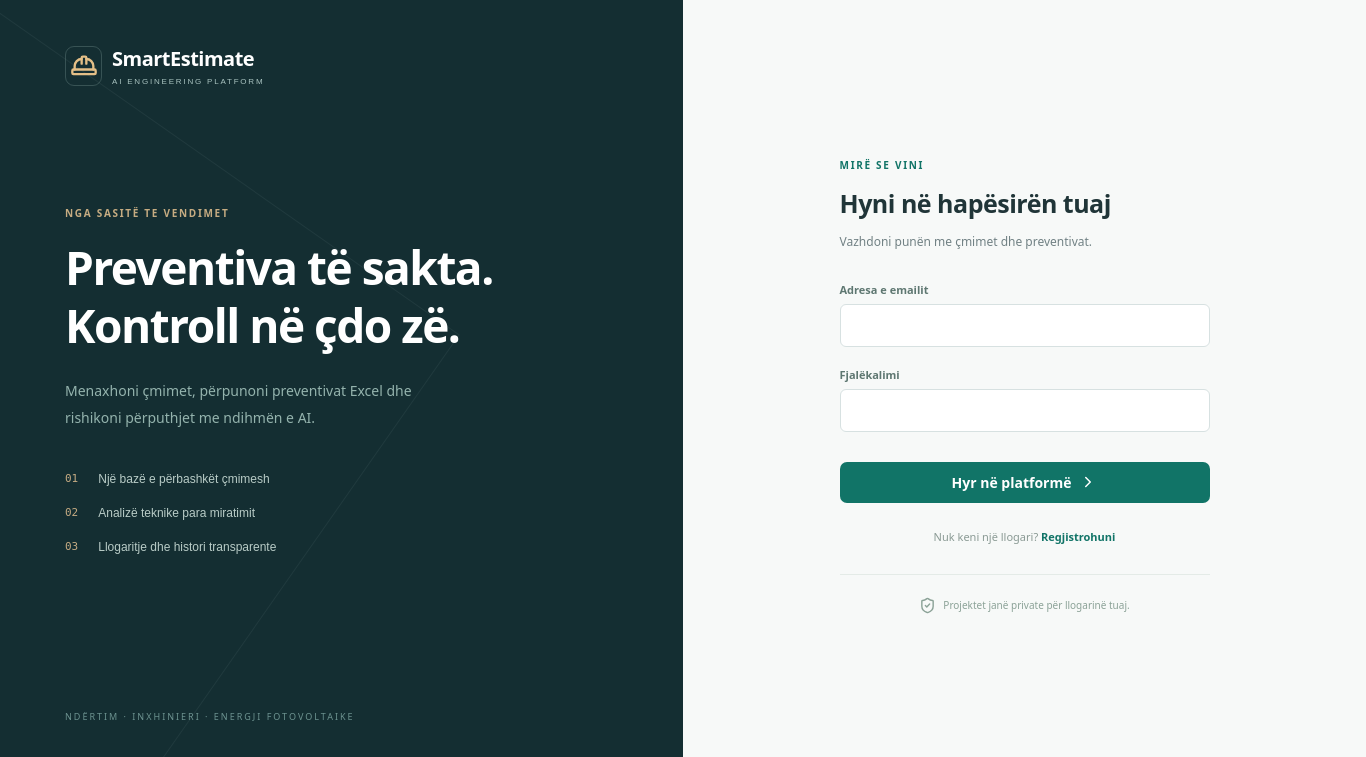
Test: Albanian workspace › requires authentication and sends registration through backend
The width and height of the screenshot is (1366, 757).
Expected: the heading "Hyni në hapësirën tuaj" is shown, [840, 186, 1111, 220]
Click the button "Regjistrohuni".
click(1078, 537)  # box [1041, 528, 1115, 546]
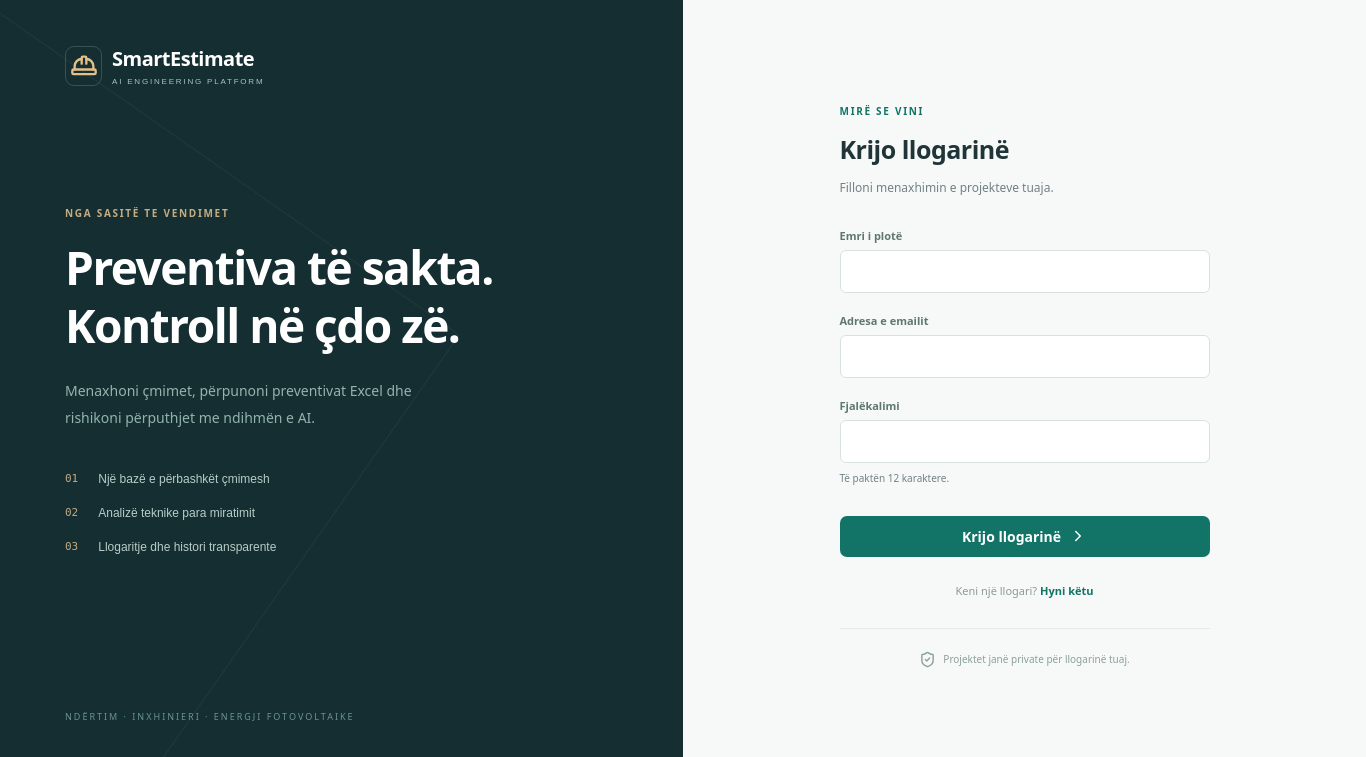
Type "Ana" into the field labelled "Emri i plotë".
click(1024, 271); type("Ana")  # box [840, 250, 1210, 293]
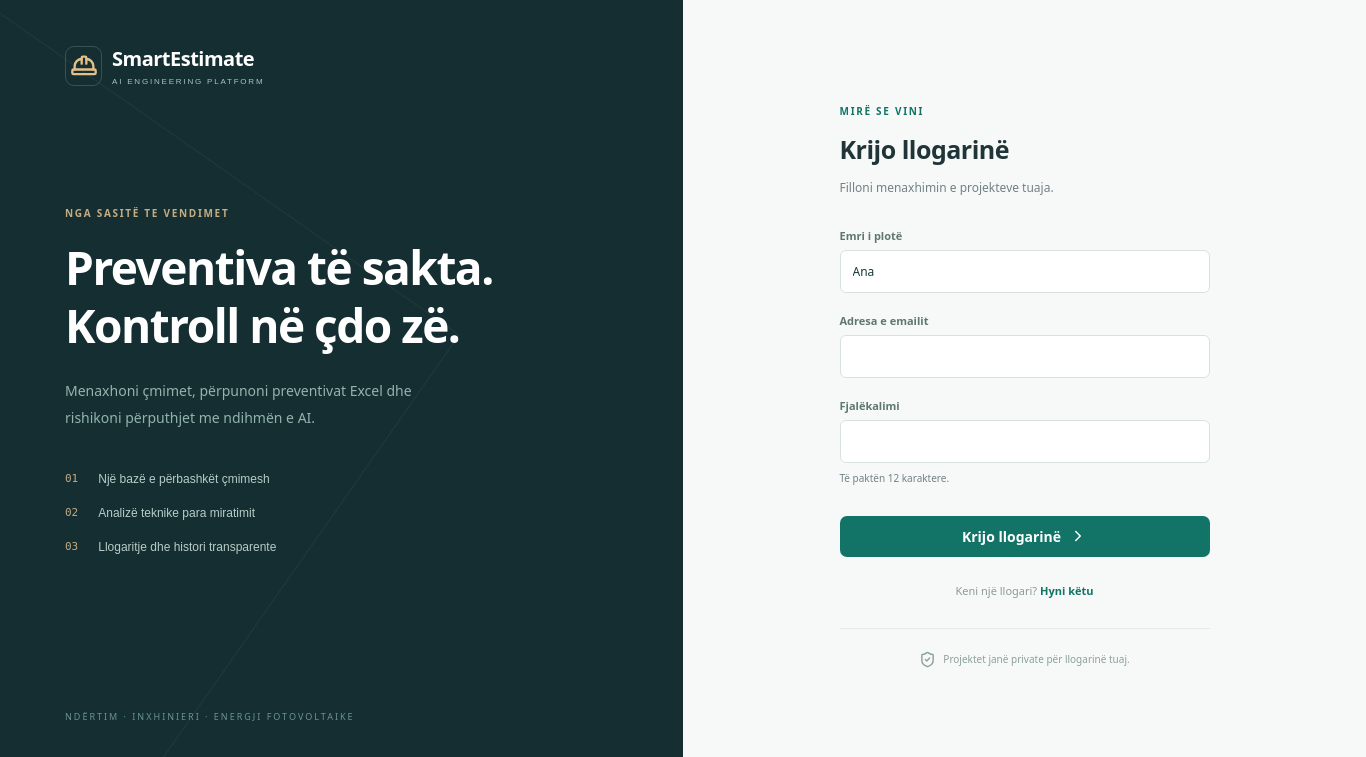
Type "ana@example.com" into the field labelled "Adresa e emailit".
click(1024, 356); type("ana@example.com")  # box [840, 335, 1210, 378]
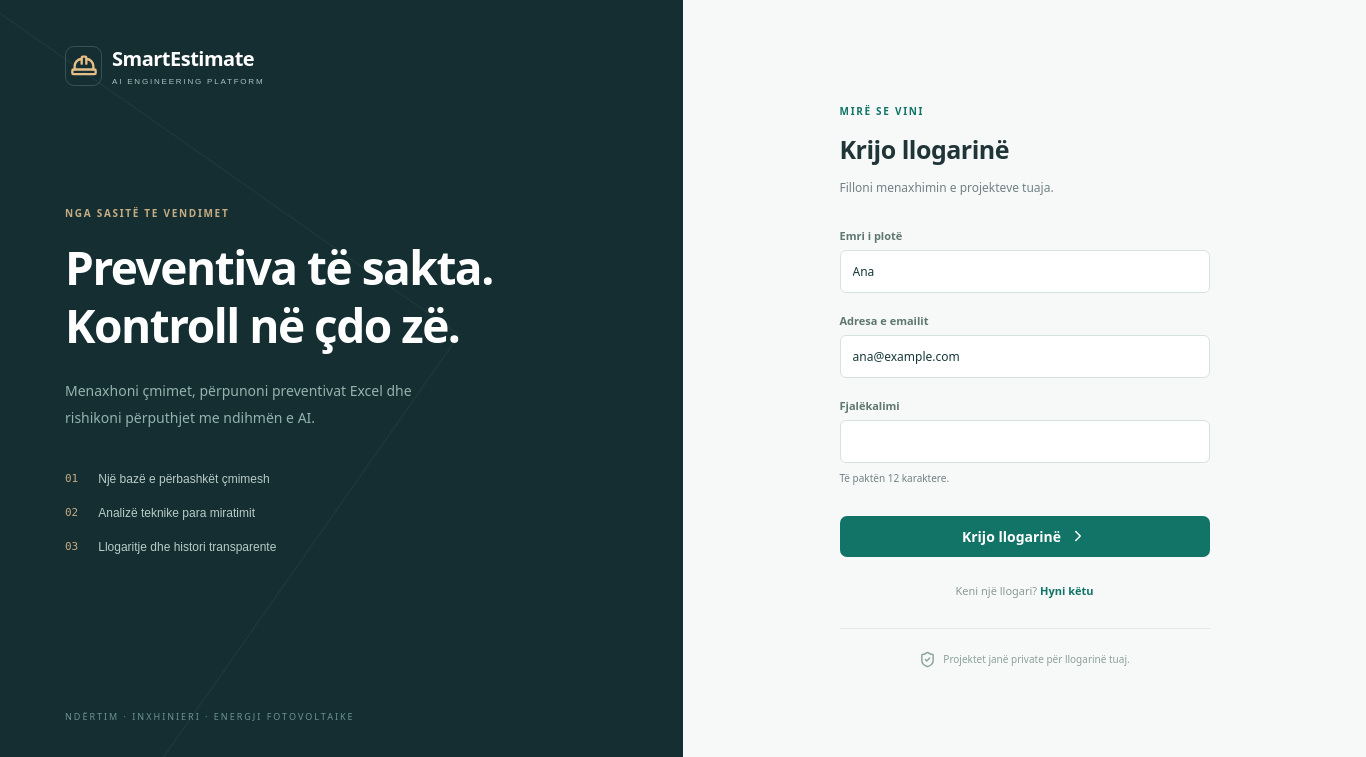
Type "test-password-123" into the password field labelled "Fjalëkalimi".
click(1024, 441); type("test-password-123")  # box [840, 420, 1210, 463]
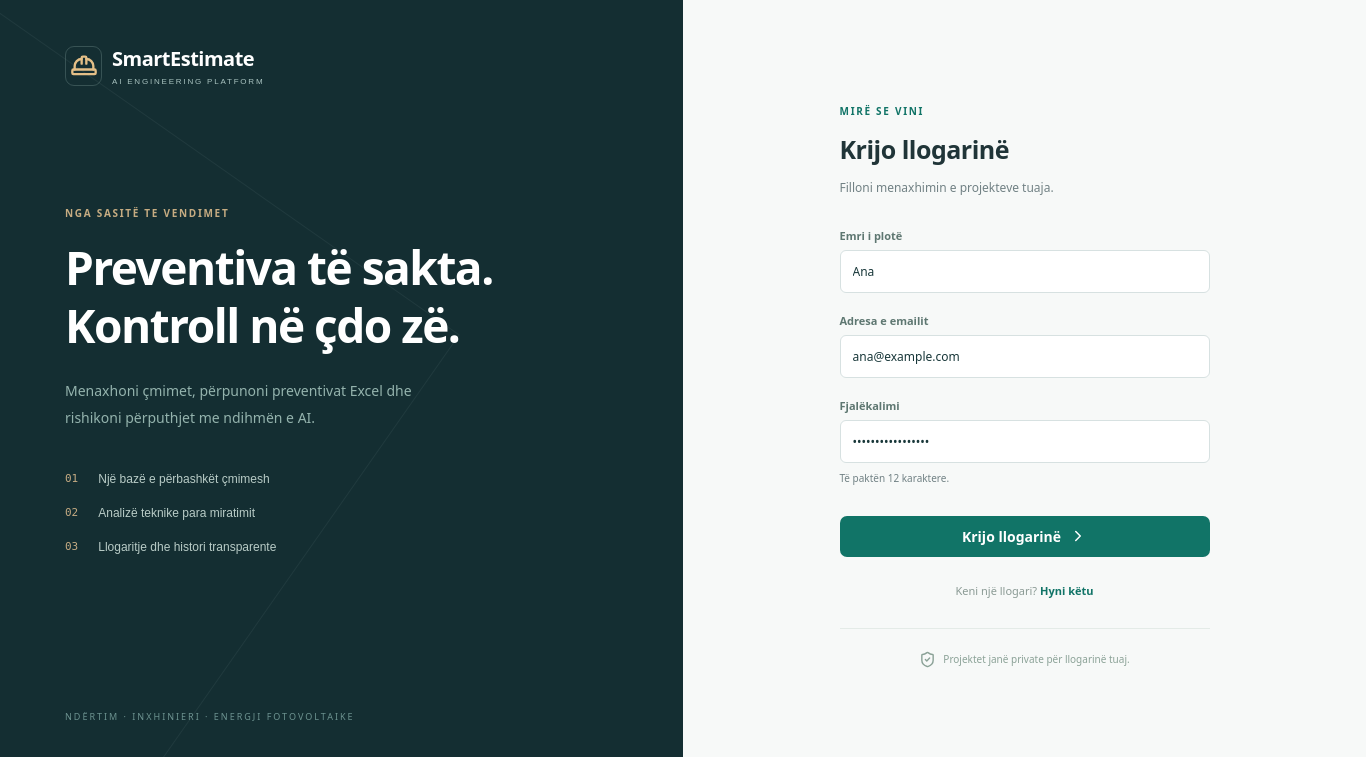
Click the button "Krijo llogarinë".
click(1024, 536)  # box [840, 516, 1210, 557]
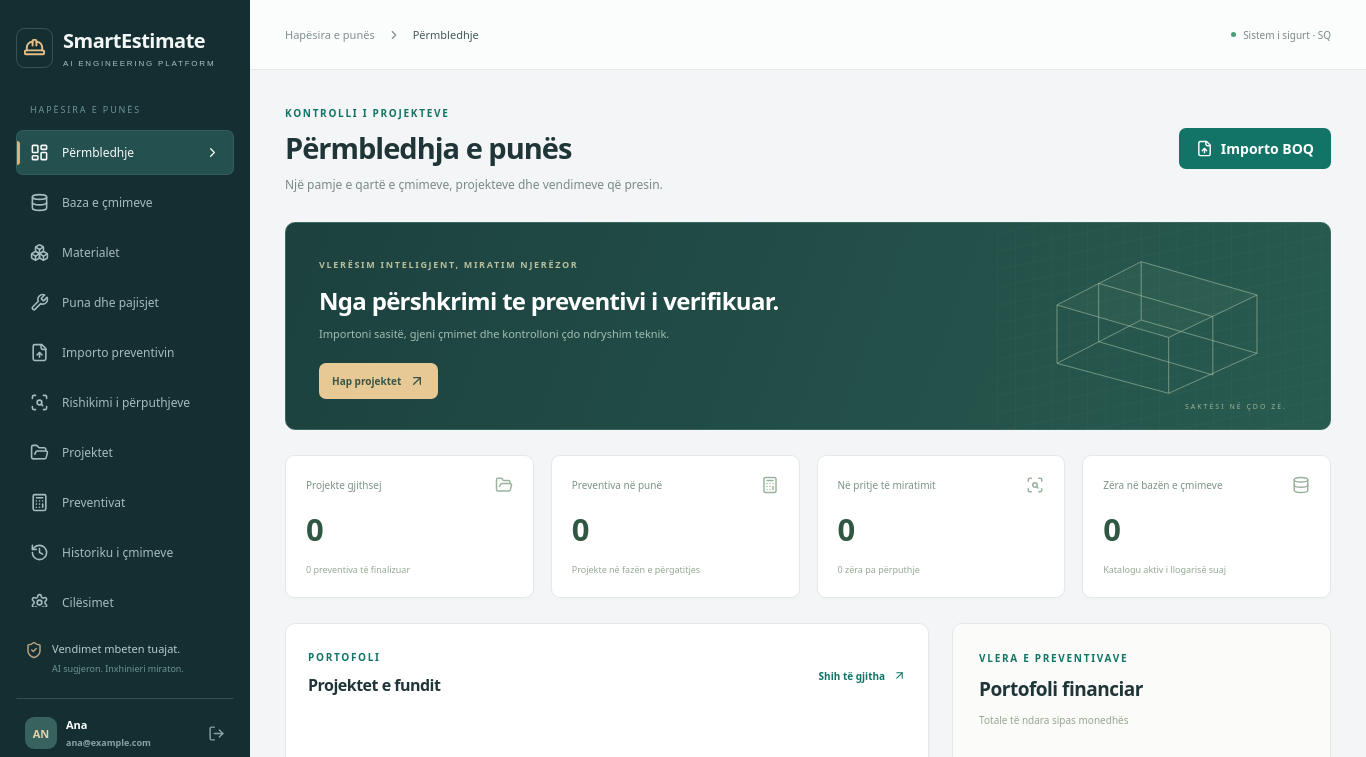
Now the heading "Përmbledhja e punës" is shown, box [285, 128, 571, 167]
